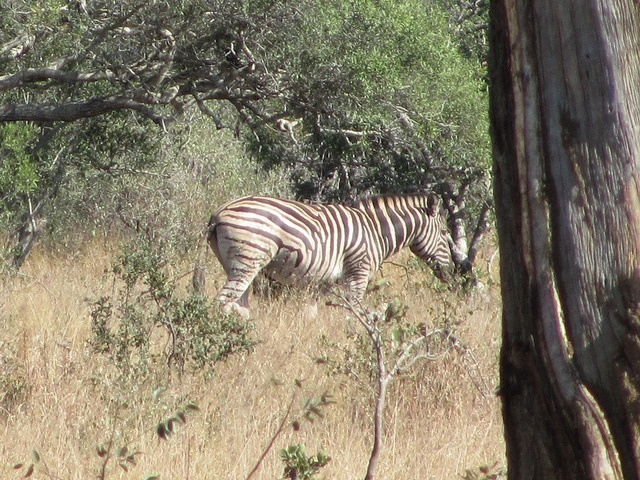zebra: (325, 255, 589, 383)
